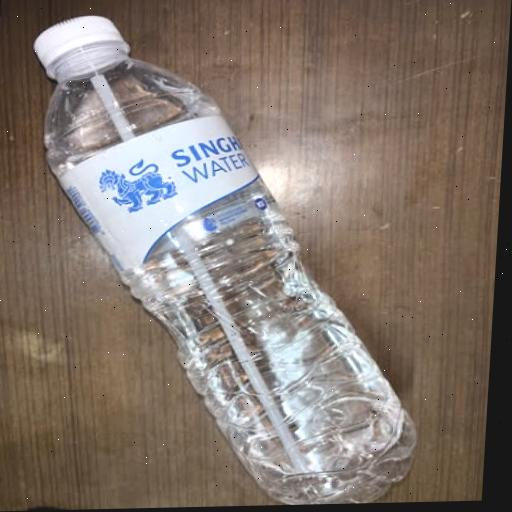ba: (0, 6, 452, 512)
